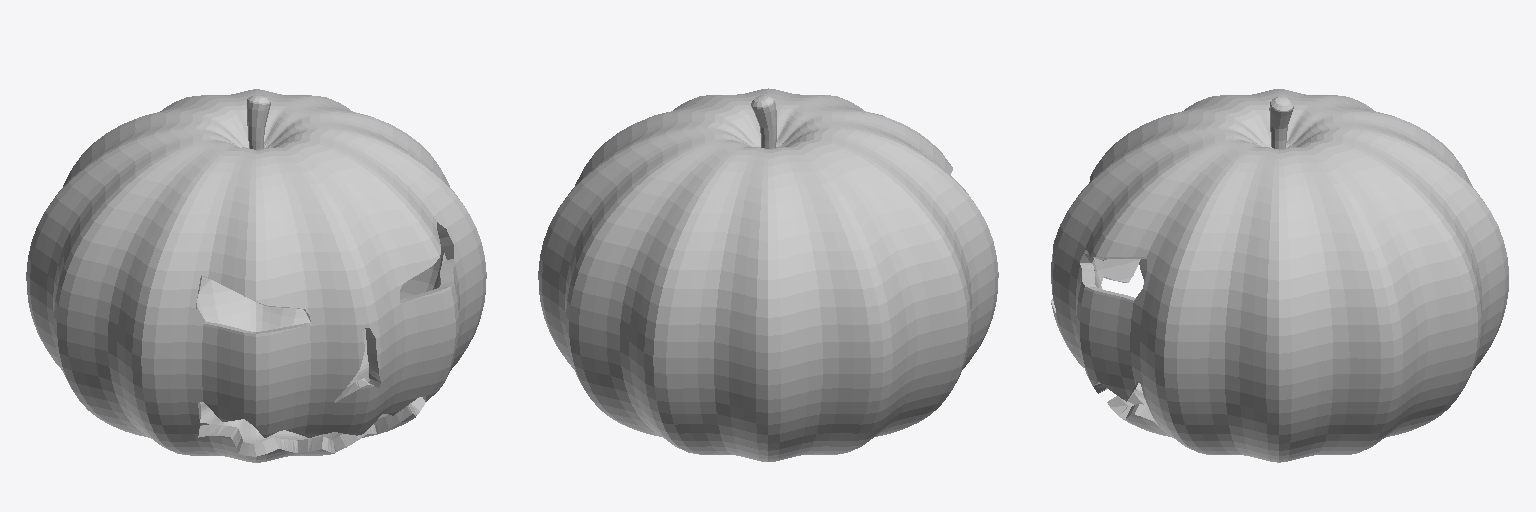
Rendered from Pumpkin.obj.
3 renders of one model, left to right at view 1: azimuth 30°, elevation 25°; view 2: azimuth 150°, elevation 25°; view 3: azimuth 270°, elevation 25°, orthographic.
Visible parts, largest first — view 1: body, tail; view 2: body, tail; view 3: body, tail.
Boxes of the visible parts, x1=… form: body: x1=26, y1=89, x2=486, y2=462; tail: x1=247, y1=95, x2=270, y2=149; body: x1=538, y1=88, x2=998, y2=461; tail: x1=751, y1=95, x2=776, y2=148; body: x1=1051, y1=89, x2=1508, y2=462; tail: x1=1269, y1=97, x2=1293, y2=148.
Bounding box in the file's own units: 22.86 × 17.43 × 22.77.